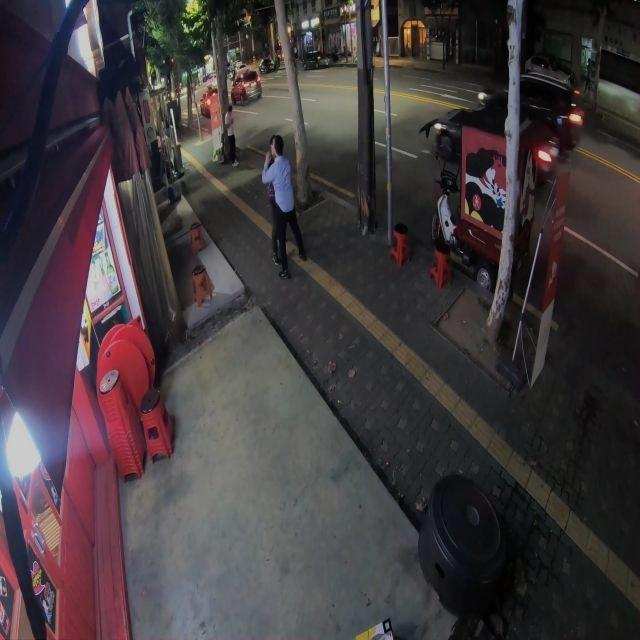fight: (260, 134, 307, 279)
